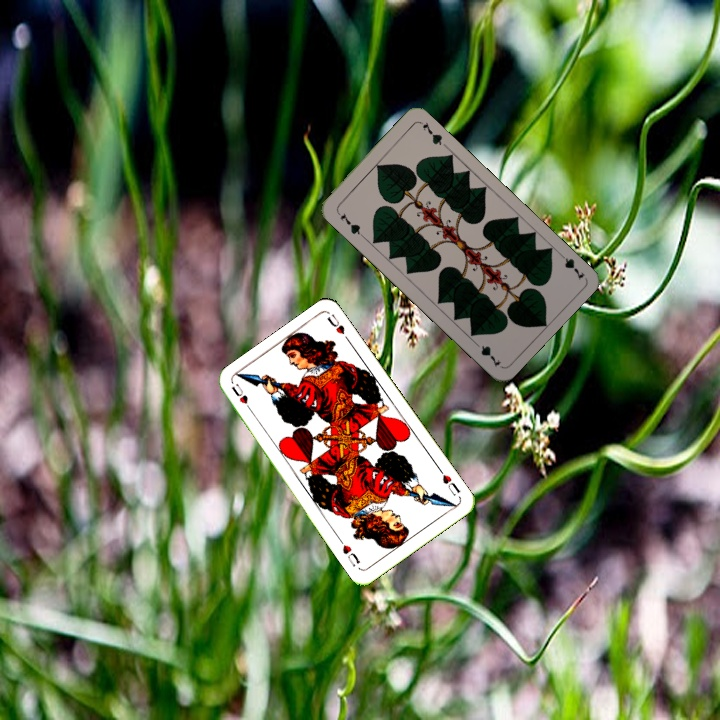G7: (554, 248, 587, 282), (333, 207, 366, 239)
HU: (227, 379, 256, 416), (435, 465, 463, 499)
